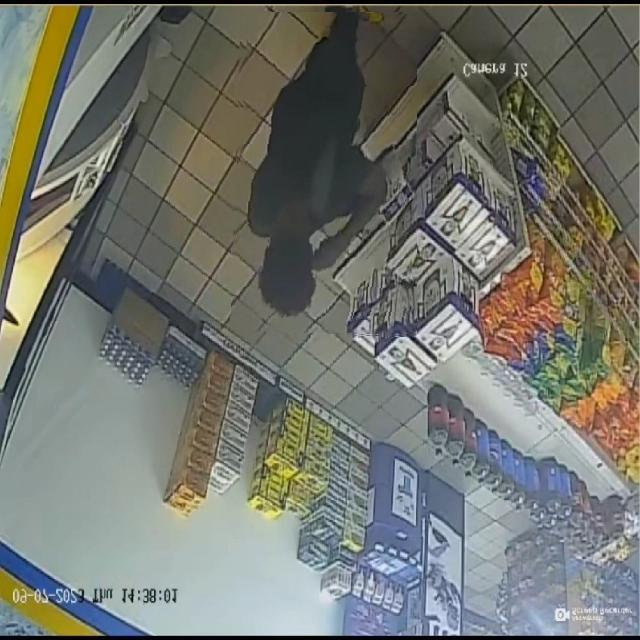normal: (233, 12, 417, 337)
